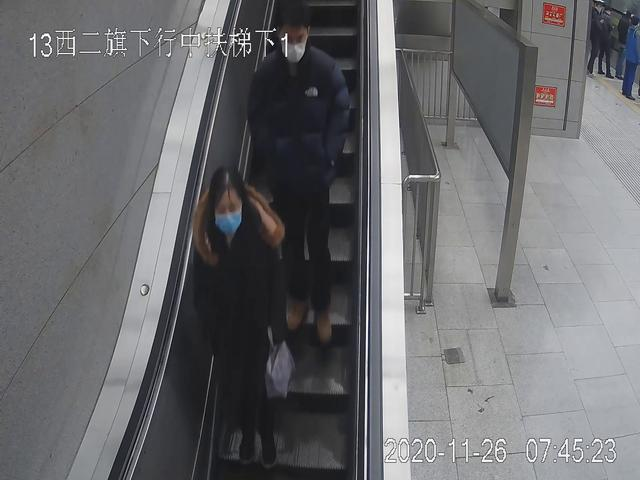person: (250, 13, 351, 340), (190, 165, 291, 464), (597, 7, 620, 77), (621, 19, 640, 102)
